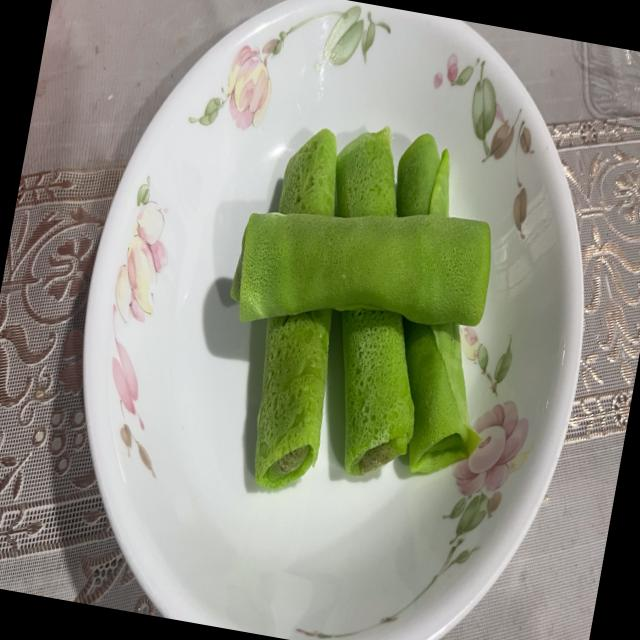Kuih-Ketayap: (231, 212, 491, 325), (254, 309, 331, 488), (341, 307, 414, 476), (403, 319, 478, 474), (335, 126, 396, 218), (278, 129, 336, 216), (395, 133, 449, 218)
